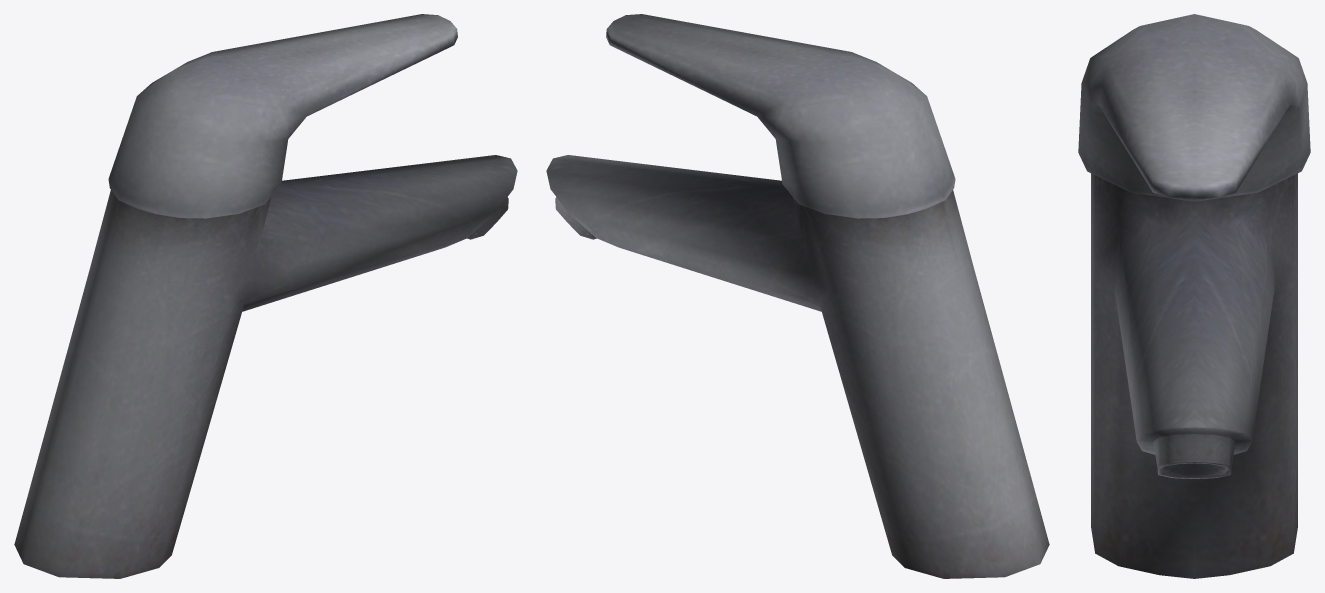
File: sink_toilet_tap.dae
The picture shows the model from 3 angles, left to right: view 1: azimuth 30°, elevation 25°; view 2: azimuth 150°, elevation 25°; view 3: azimuth 270°, elevation 25°; orthographic projection. The views are drawn at different scales.
Parts seen in each view (by area): view 1: sink_toilet_tap__2_, tap_handle; view 2: sink_toilet_tap__2_, tap_handle; view 3: sink_toilet_tap__2_, tap_handle.
Part boxes in pixels (bbox=[...]): sink_toilet_tap__2_: bbox=[14, 155, 517, 578]; tap_handle: bbox=[108, 14, 457, 218]; sink_toilet_tap__2_: bbox=[546, 155, 1049, 578]; tap_handle: bbox=[606, 14, 955, 218]; sink_toilet_tap__2_: bbox=[1091, 173, 1297, 578]; tap_handle: bbox=[1078, 14, 1310, 201].
Size of the model in its own units: 0.0987 by 0.086 by 0.031.
